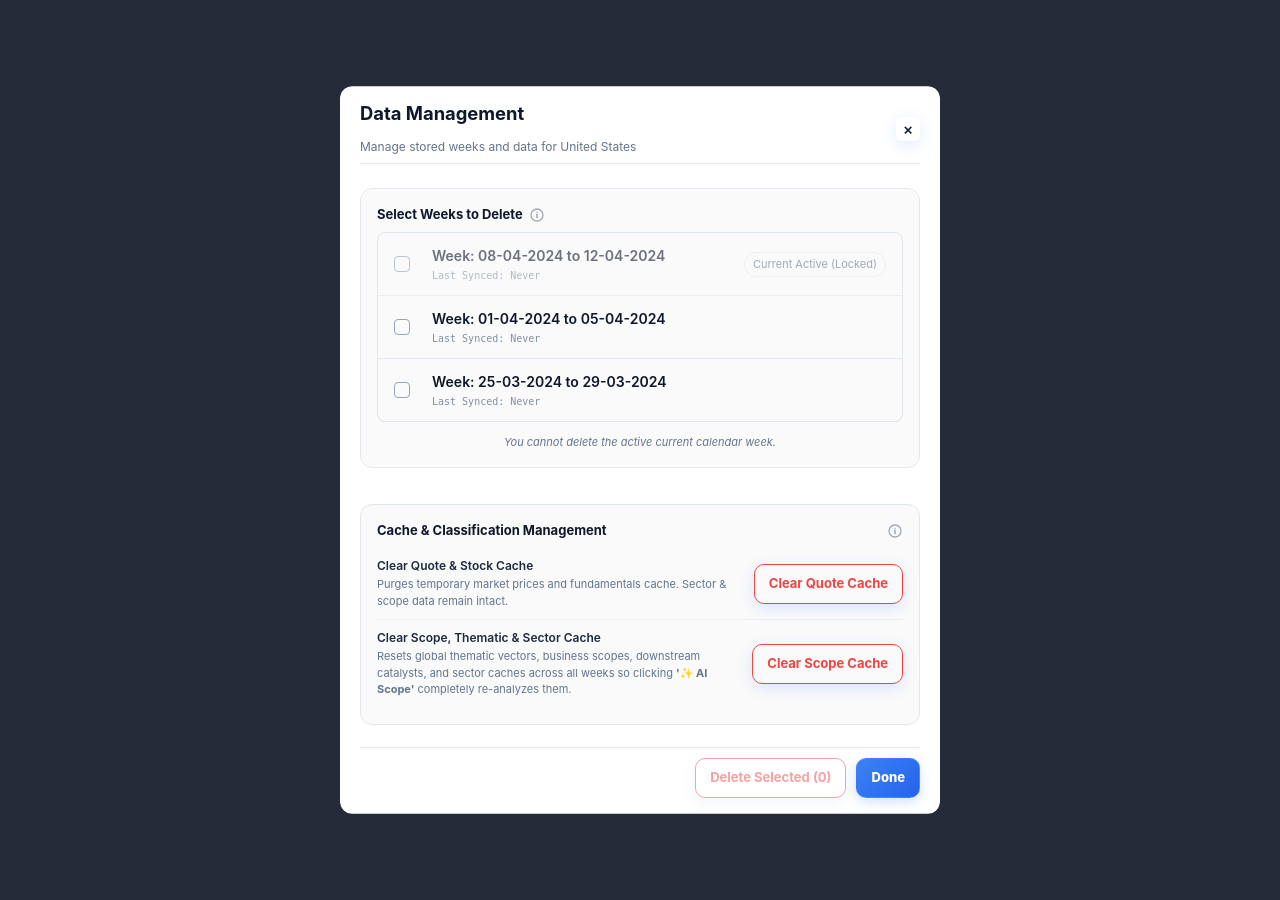
Test: DataManagementModal Components › allows selecting multiple historic weeks
The width and height of the screenshot is (1280, 900).
Expected: the button "Delete Selected (0)" is disabled, x1=695 y1=758 x2=846 y2=798
# Select the historic week
What coordinates should you click on to do the following:
click the text "Week: 01-04-2024 to 05-04-2024"
I would click on:
 (640, 328)
Its box is x1=378 y1=296 x2=902 y2=359.
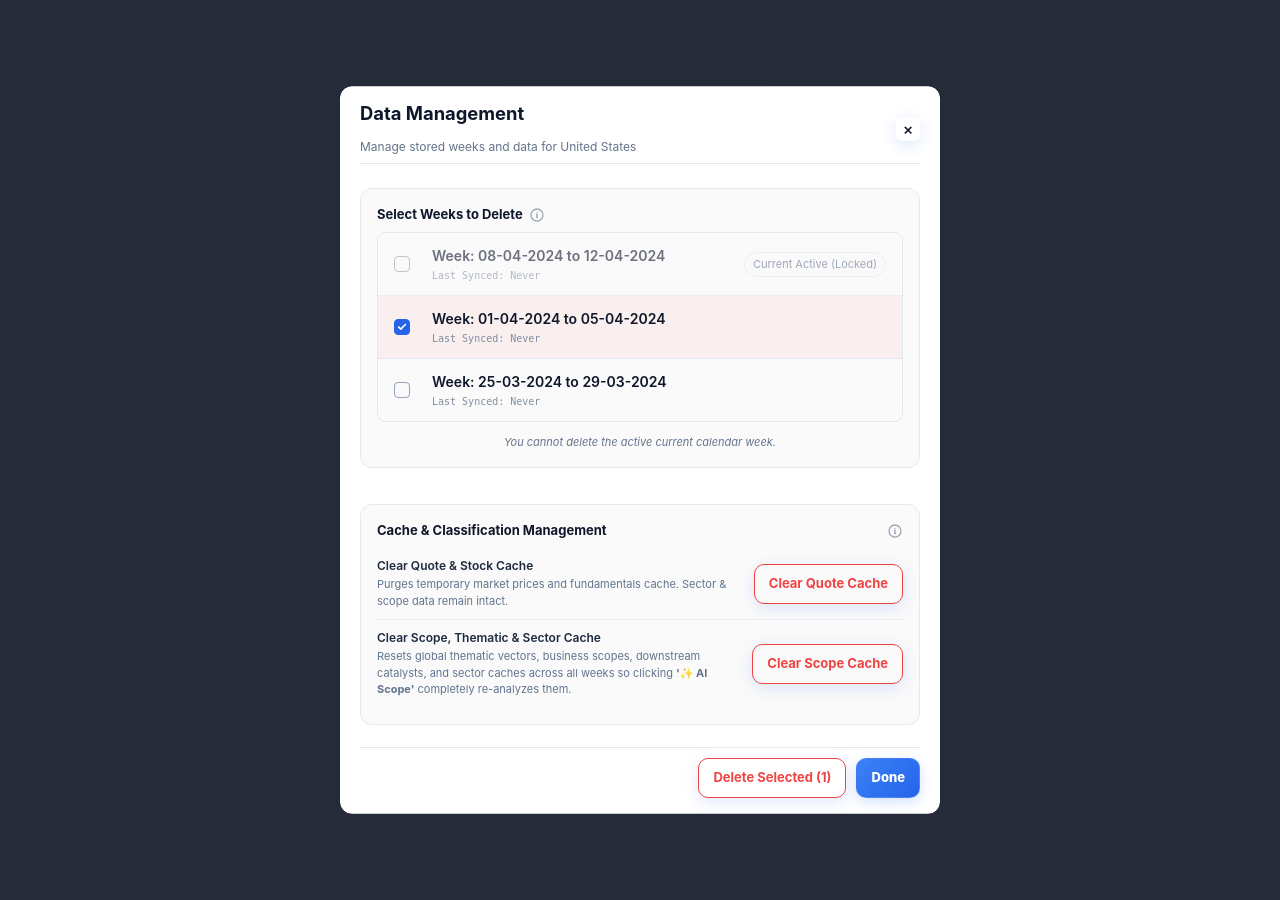
Now the button "Delete Selected (1)" is enabled, box x1=698 y1=758 x2=846 y2=798
